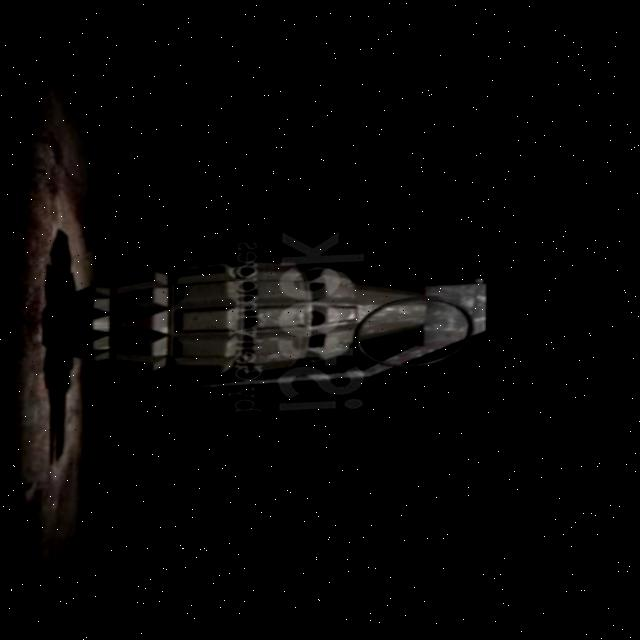grenade: (50, 202, 511, 438)
